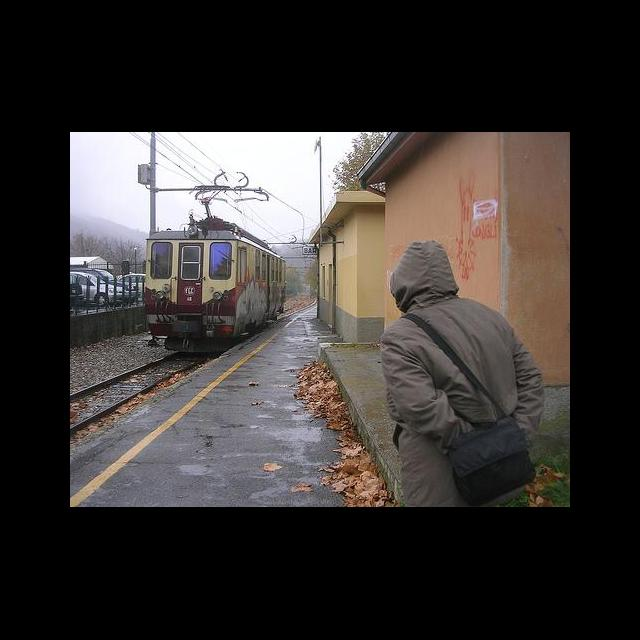NO-Hardhat: (389, 239, 451, 283)
NO-Safety Vest: (392, 300, 522, 452)
Person: (385, 238, 546, 508)
